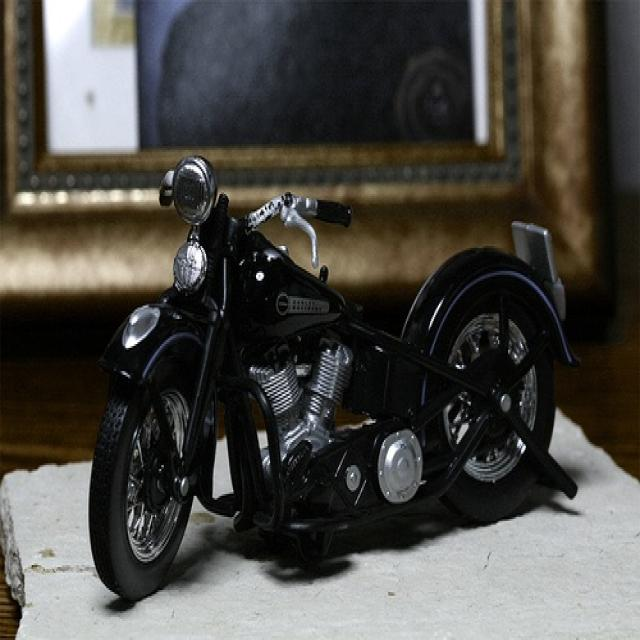motorbike: (87, 142, 575, 600)
